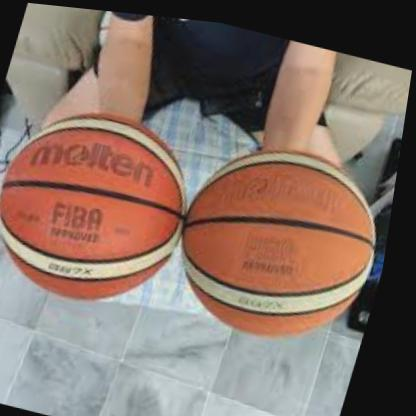basketball: (166, 121, 404, 350), (0, 91, 215, 317)
